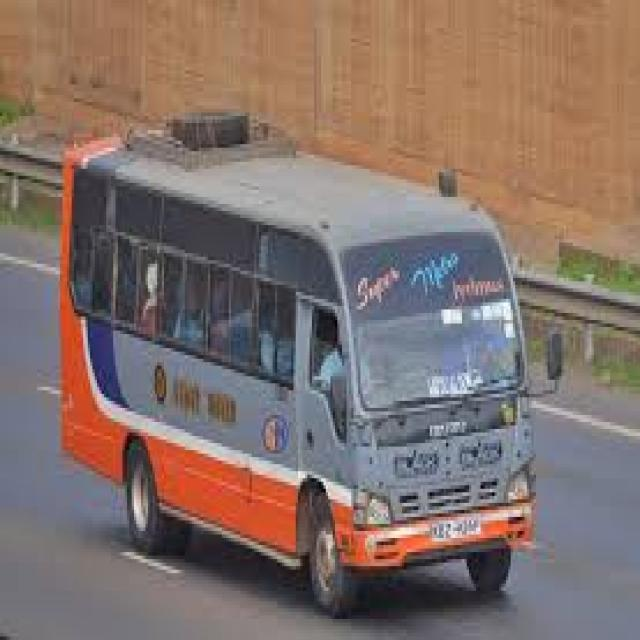bus: (40, 56, 582, 640)
